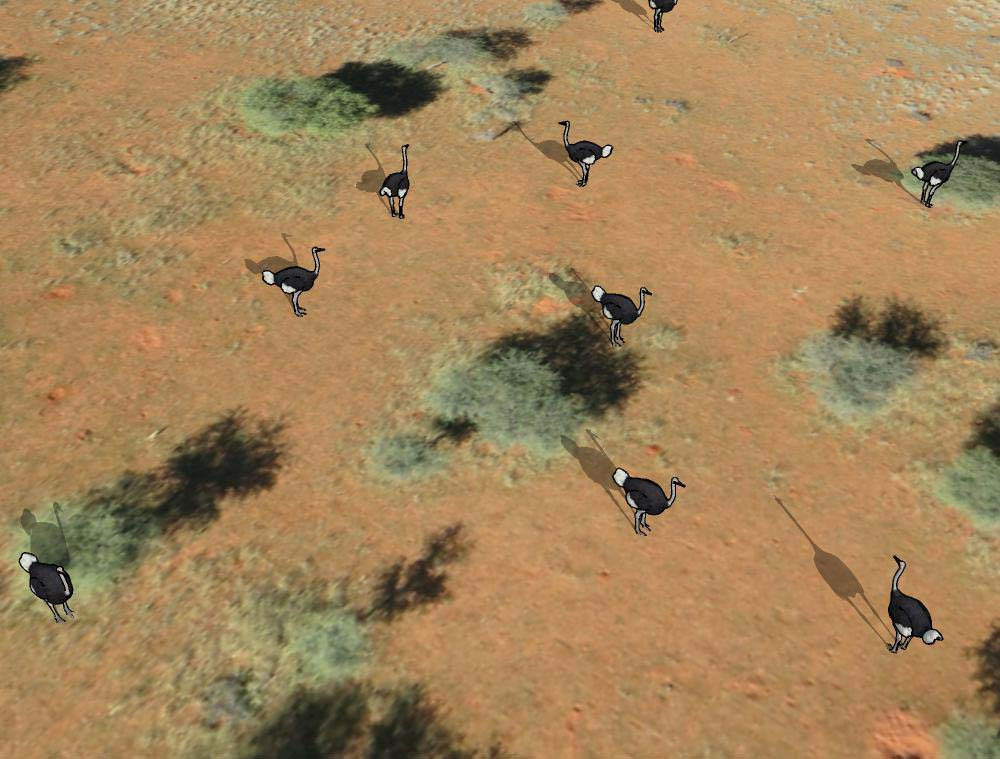springbok: (882, 552, 948, 663), (608, 455, 691, 537), (255, 242, 333, 320), (548, 115, 622, 193), (11, 550, 83, 628), (582, 278, 656, 348), (907, 137, 972, 207), (373, 141, 421, 221), (642, 1, 691, 39)
